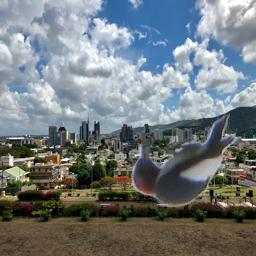Woodpecker: (129, 113, 238, 208)
